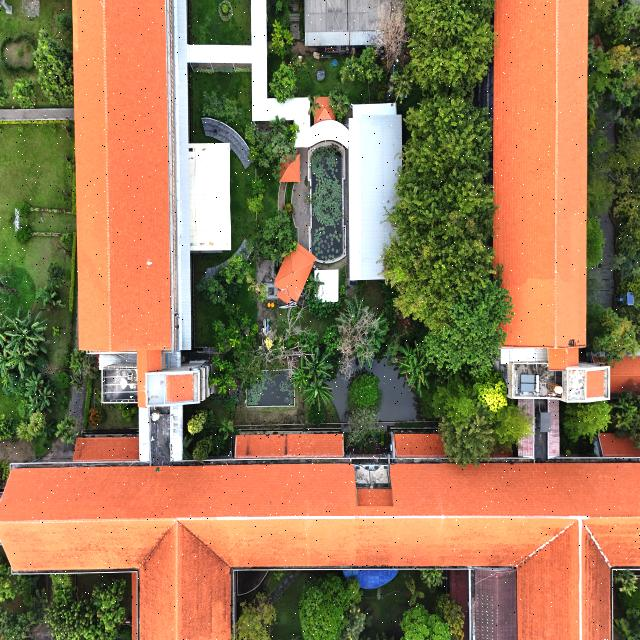Tree: (300, 576, 346, 640), (233, 594, 278, 640), (401, 601, 452, 640), (565, 401, 611, 438), (0, 554, 26, 604), (268, 62, 297, 104), (350, 370, 380, 404), (188, 409, 208, 436), (47, 262, 67, 282), (218, 418, 234, 440), (307, 94, 321, 118), (0, 415, 14, 439), (16, 226, 34, 243), (248, 195, 264, 212), (252, 178, 266, 196), (18, 201, 31, 215), (275, 0, 282, 14)
